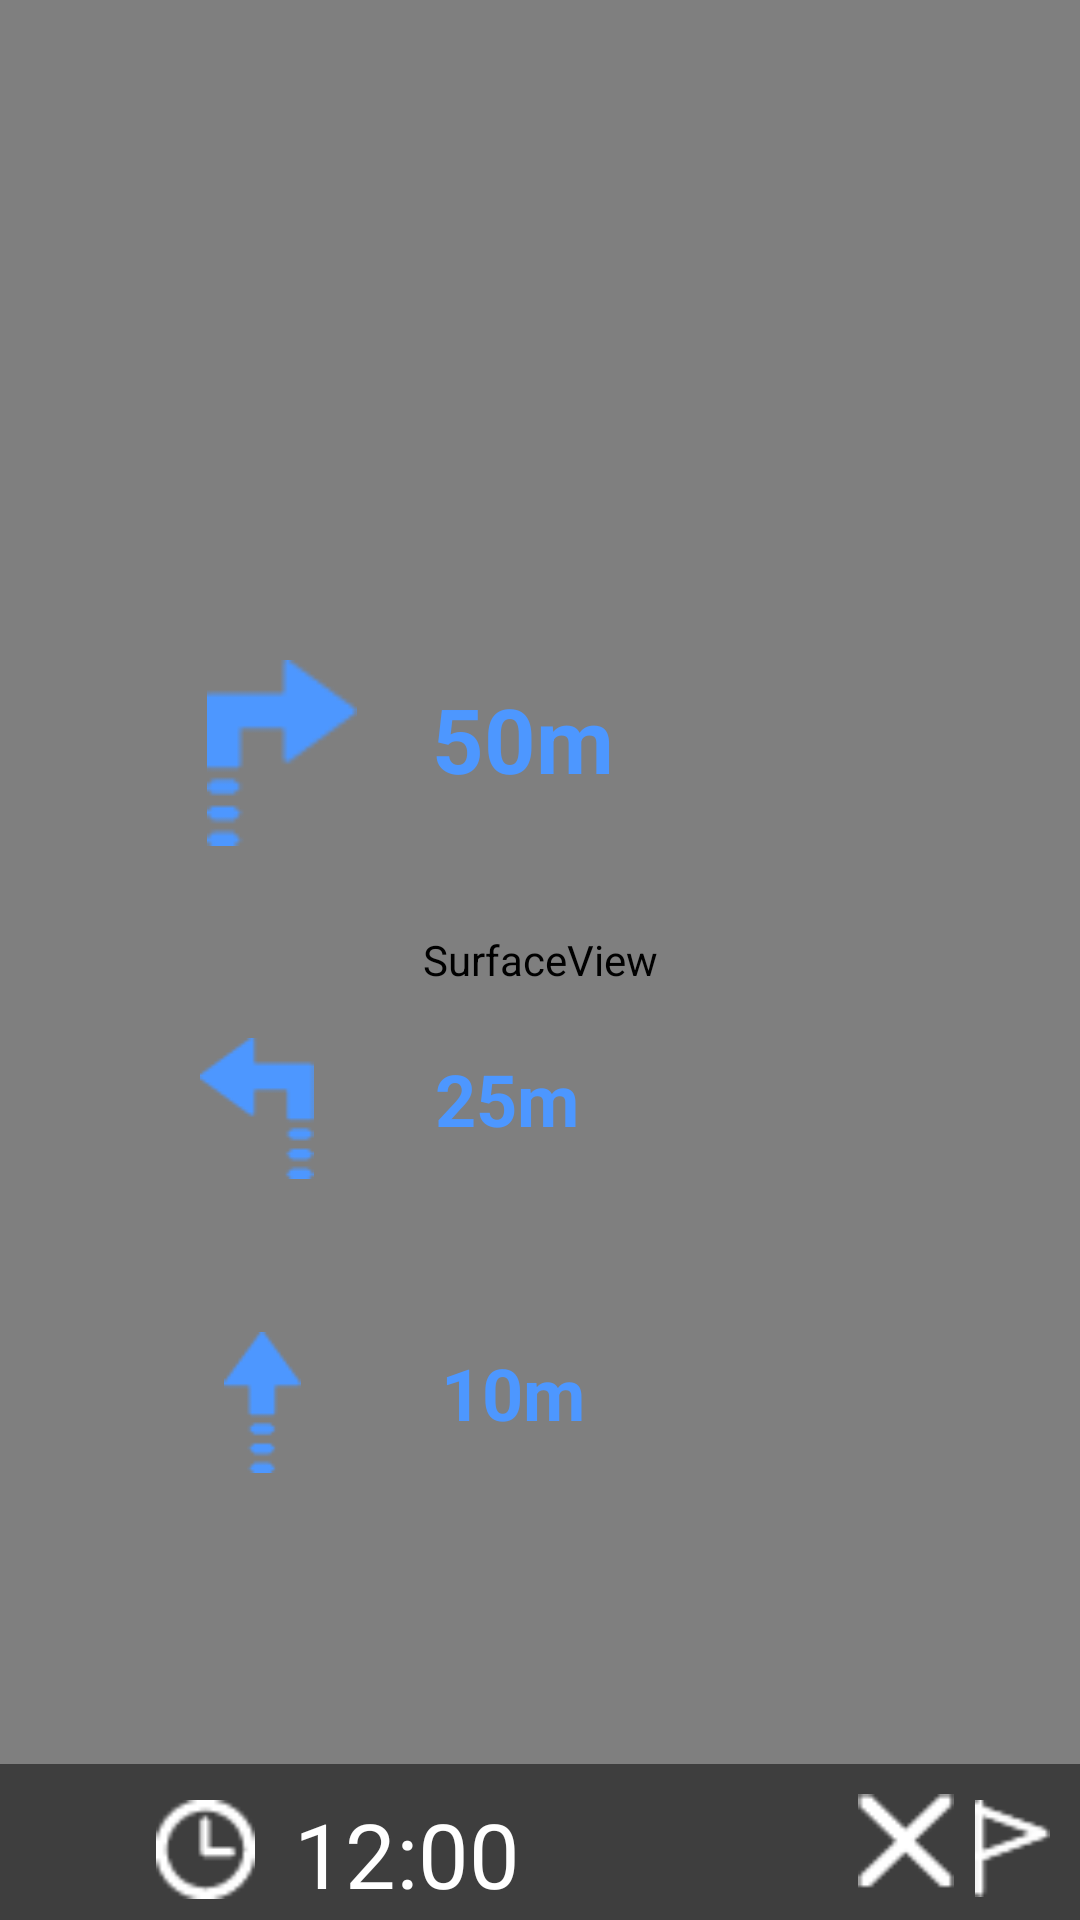

Icons on this 1080px x 1920px Android screen, each with its box as (x1, y1, x2, y2):
arrow left: (200, 1038, 314, 1179)
arrow right: (207, 660, 357, 846)
arrow straight: (224, 1332, 301, 1473)
destination: (975, 1800, 1050, 1897)
time: (156, 1800, 255, 1899)
